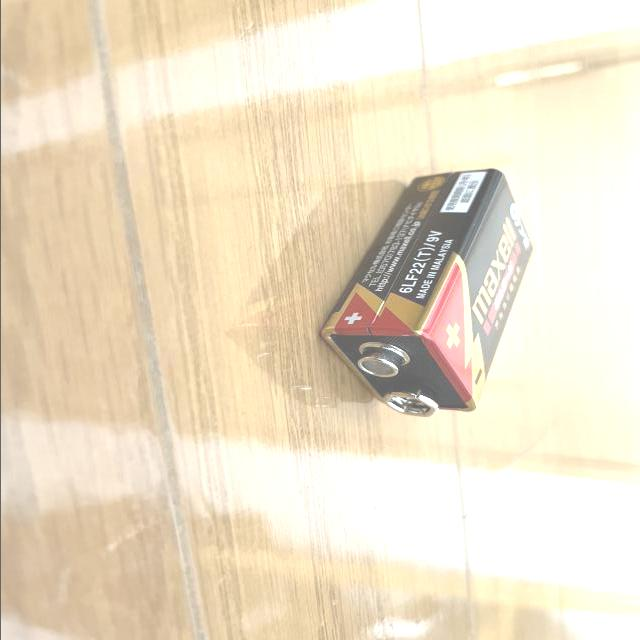9V: (321, 168, 532, 417)
